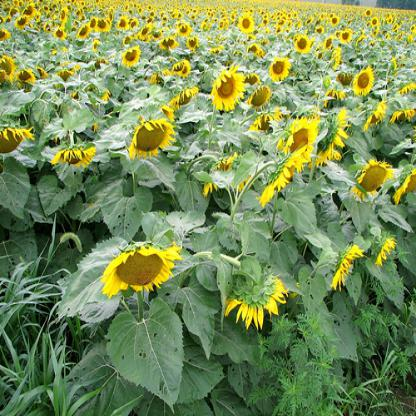SUN FLOWER: (4, 10, 399, 382)
